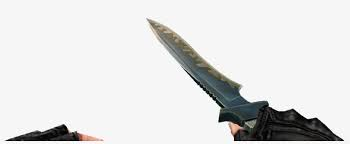knife: (141, 14, 302, 144)
